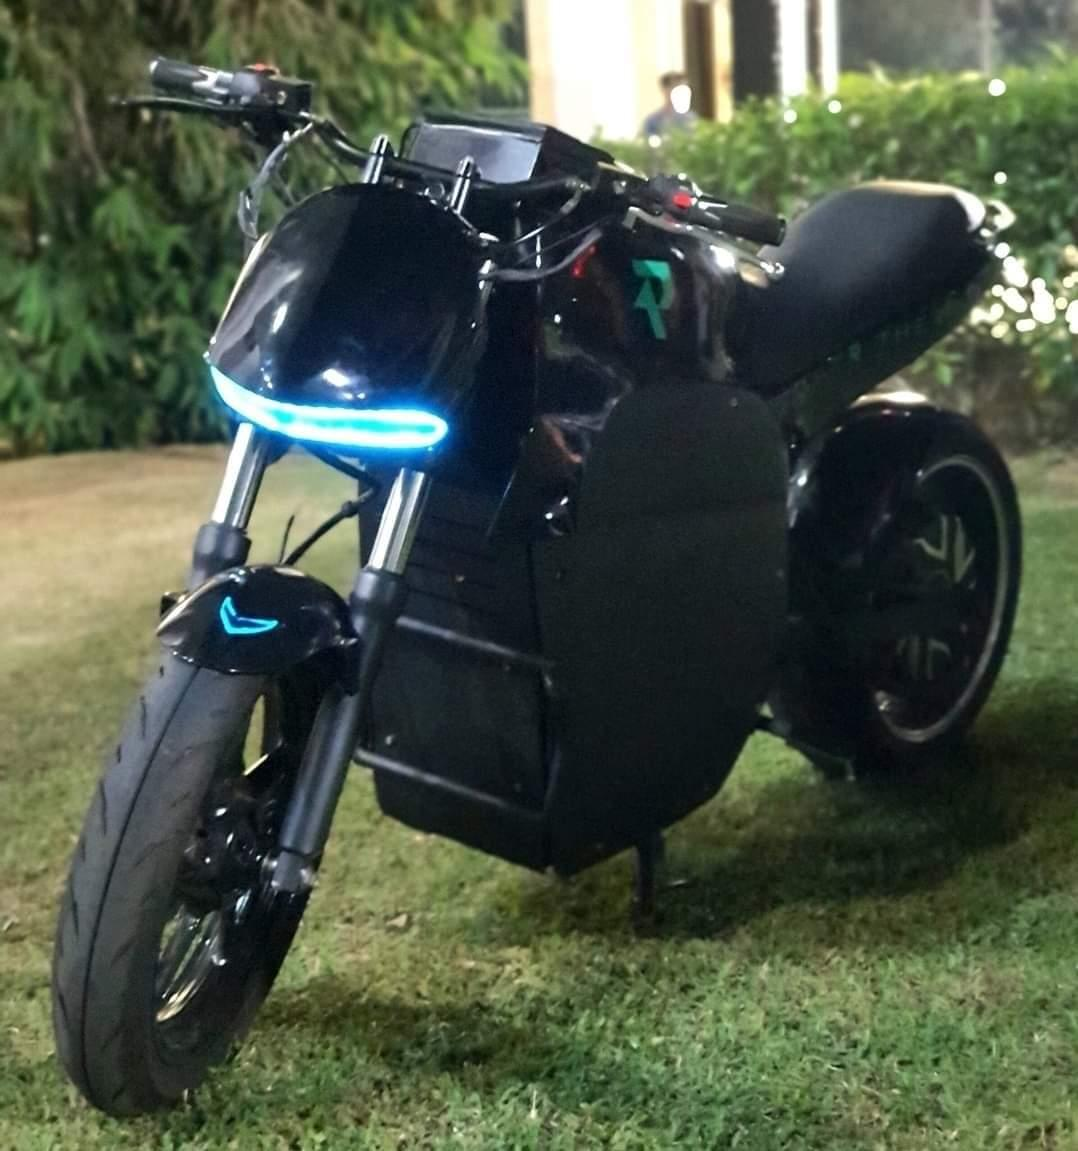motorbike: (50, 54, 1024, 1121)
